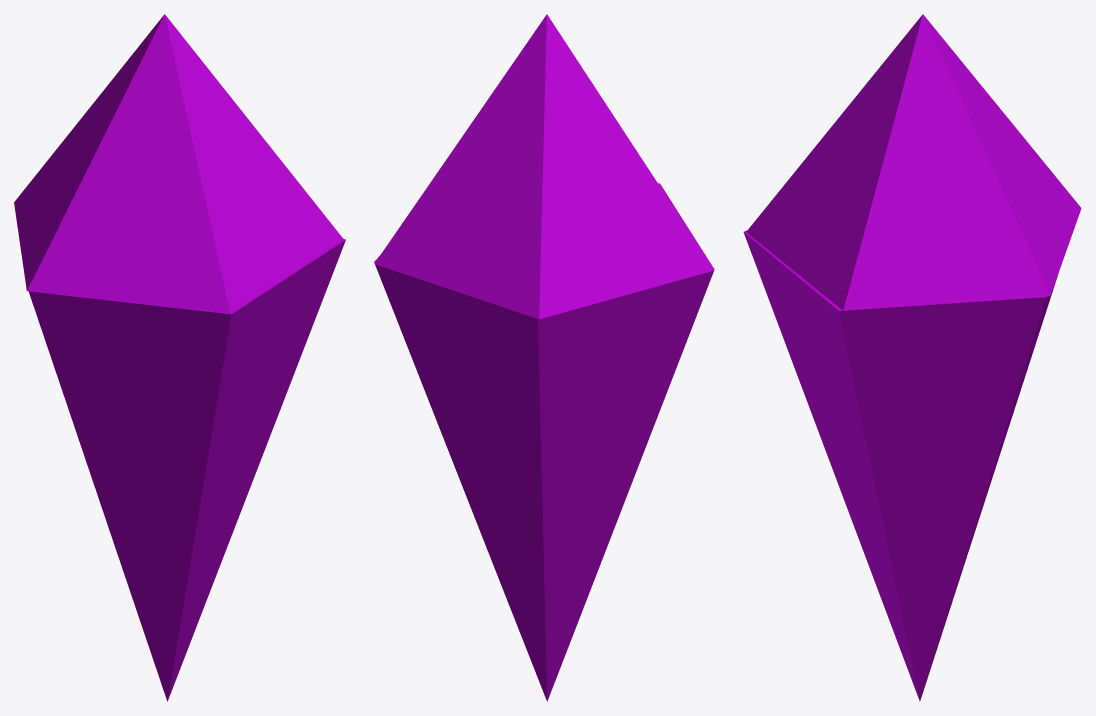
Rendered from Goal.glb.
The picture shows the model from 3 angles, left to right: view 1: azimuth 30°, elevation 25°; view 2: azimuth 150°, elevation 25°; view 3: azimuth 270°, elevation 25°; orthographic projection.
Visible parts, largest first — view 1: Mesh_Mesh_head_geo.001_lambert2SG.001; view 2: Mesh_Mesh_head_geo.001_lambert2SG.001; view 3: Mesh_Mesh_head_geo.001_lambert2SG.001.
Part boxes in pixels (x1,y1,x2,y2): Mesh_Mesh_head_geo.001_lambert2SG.001: (14,14,345,701); Mesh_Mesh_head_geo.001_lambert2SG.001: (374,14,714,701); Mesh_Mesh_head_geo.001_lambert2SG.001: (743,14,1081,701).
Size of the model in its own units: 33.86 by 76.2 by 33.97.
